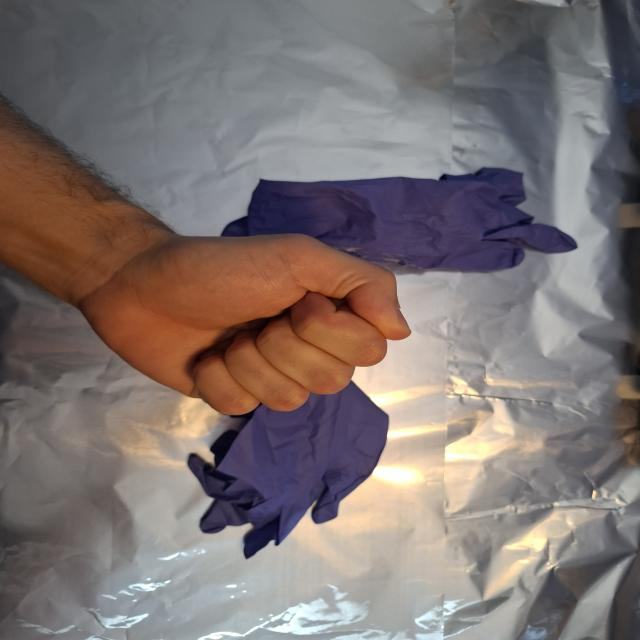glove_off: (71, 215, 414, 417)
